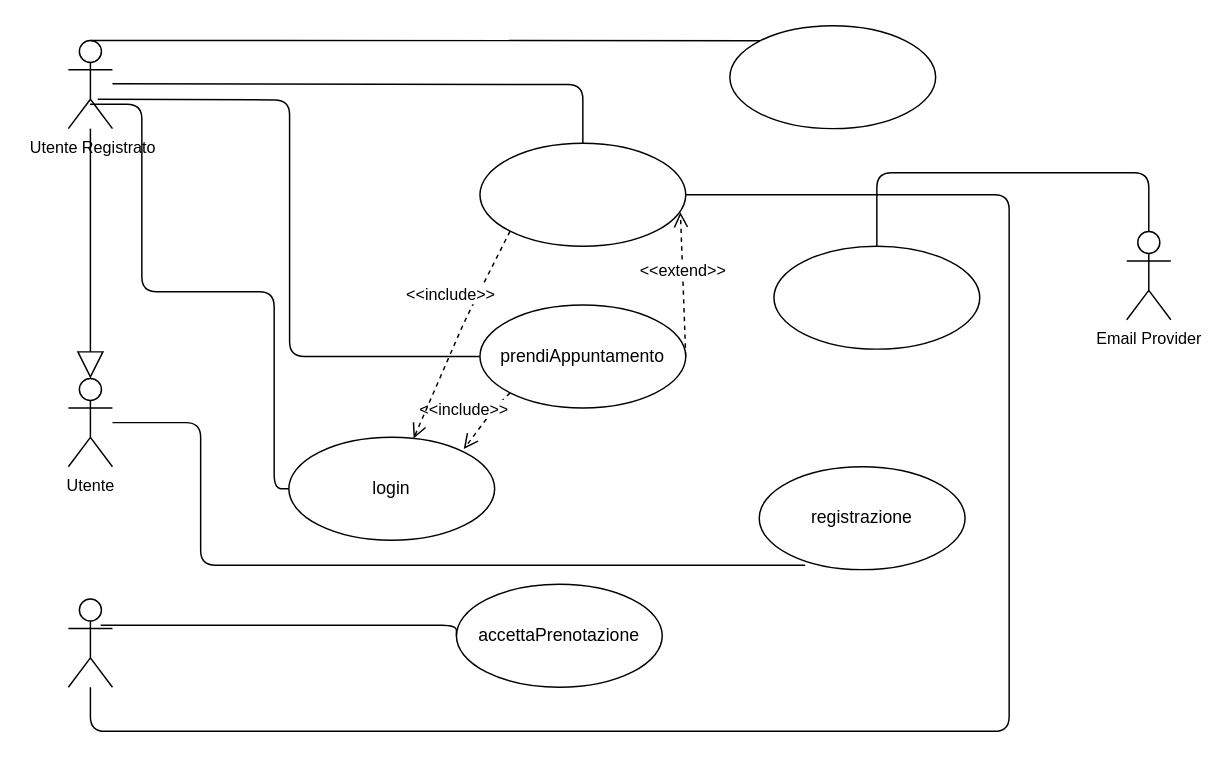
Some shapes in this 1227 by 759 pixel diagram are drawn without their labels. Each missing label, with the centre of its shape:
"Admin" belongs at point (89, 642).
"cancellaPrenotazione" belongs at point (832, 76).
"effettuaPrenotazione" belongs at point (582, 194).
"notificaPostiLiberi" belongs at point (876, 297).
